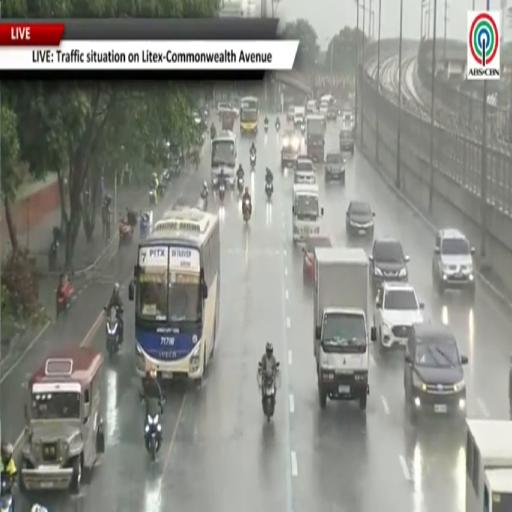bus: (129, 207, 220, 381), (240, 96, 258, 135)
car: (404, 323, 467, 419), (375, 282, 424, 348), (432, 229, 475, 295), (369, 238, 409, 293), (303, 235, 332, 282), (346, 201, 374, 237), (281, 131, 300, 168), (325, 152, 345, 183), (294, 157, 315, 184), (339, 124, 354, 154), (217, 102, 239, 117), (294, 171, 315, 184), (296, 156, 314, 171), (326, 104, 338, 120), (287, 106, 294, 121)
jeepney: (20, 348, 104, 493), (292, 184, 323, 243), (211, 132, 238, 187)
motorcycle: (142, 396, 164, 461), (258, 362, 279, 422), (104, 308, 122, 357), (56, 279, 74, 316), (119, 210, 137, 247), (48, 227, 61, 271), (0, 477, 13, 511), (119, 220, 133, 247), (102, 205, 112, 240), (140, 214, 150, 239), (242, 198, 252, 223), (158, 180, 167, 198), (149, 187, 157, 205), (265, 182, 273, 200), (201, 191, 208, 211), (237, 176, 244, 194), (219, 182, 225, 201), (250, 153, 255, 170), (210, 126, 216, 139), (275, 120, 281, 131), (301, 123, 305, 135), (264, 122, 268, 133)
truck: (314, 248, 375, 410), (466, 420, 511, 511), (306, 116, 325, 163)
